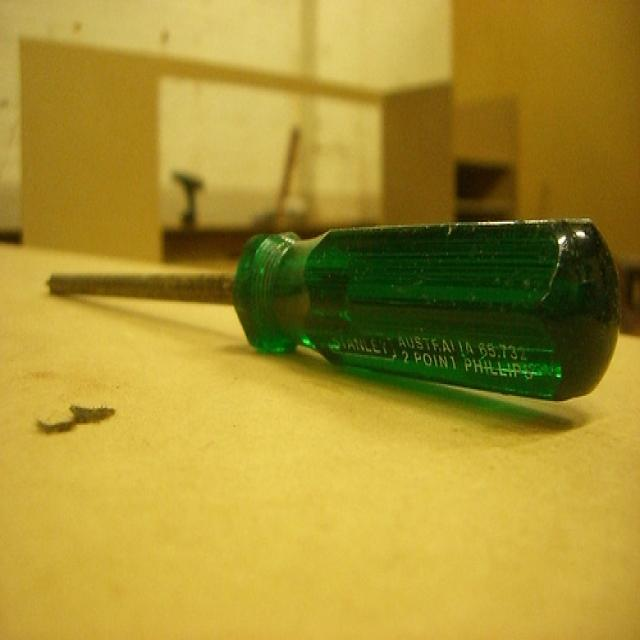screw driver: (30, 212, 633, 421)
